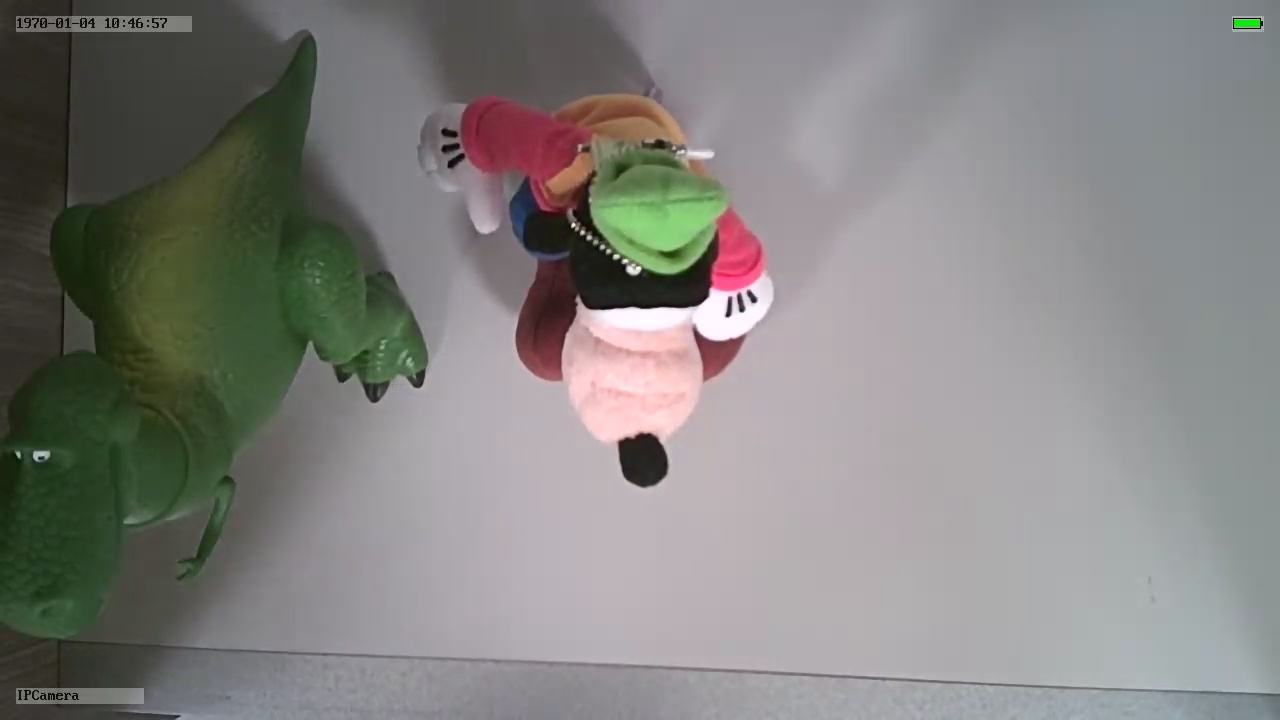goofy: (415, 85, 776, 493)
rex: (1, 146, 428, 641)
